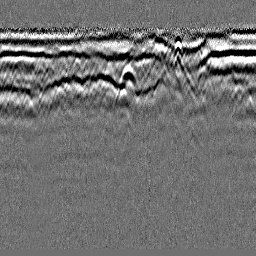cavity: (114, 61, 141, 104)
